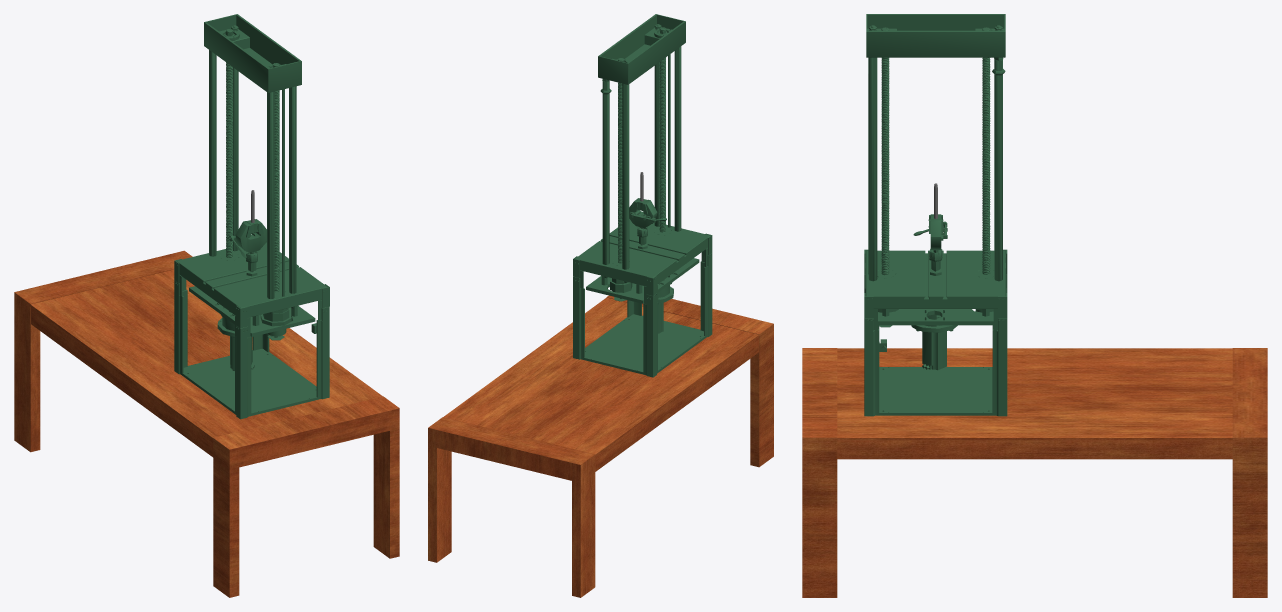
The model's file is maquinaCompletaConmesamaterialprueba.gltf.
The picture shows the model from 3 angles, left to right: view 1: azimuth 30°, elevation 25°; view 2: azimuth 150°, elevation 25°; view 3: azimuth 270°, elevation 25°; orthographic projection. The views are drawn at different scales.
Visible parts, largest first — view 1: Box001, main; view 2: Box001, main; view 3: Box001, main.
Boxes of the visible parts, bbox=[...] form: Box001: bbox=[14, 250, 399, 597]; main: bbox=[174, 14, 329, 419]; Box001: bbox=[428, 295, 773, 597]; main: bbox=[573, 14, 712, 377]; Box001: bbox=[802, 348, 1267, 597]; main: bbox=[864, 14, 1007, 416].
Bounding box in the file's own units: 1.37 × 3.77 × 3.
3 materials, 1 textured.
